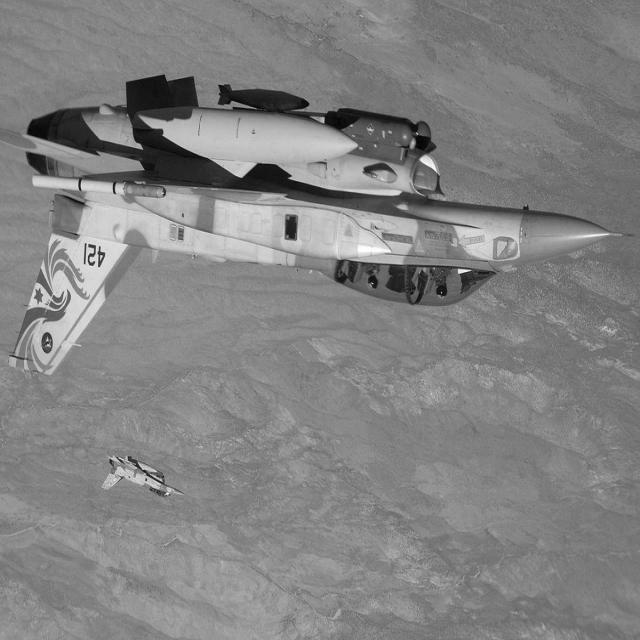missile: (78, 91, 356, 171)
